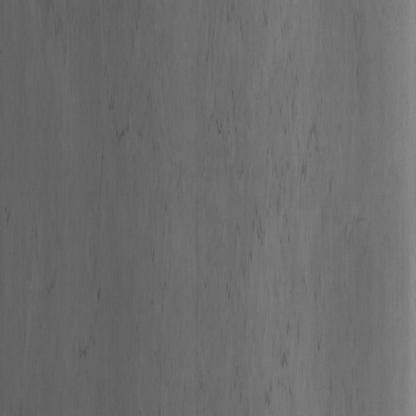silk_spot: (211, 90, 302, 304)
